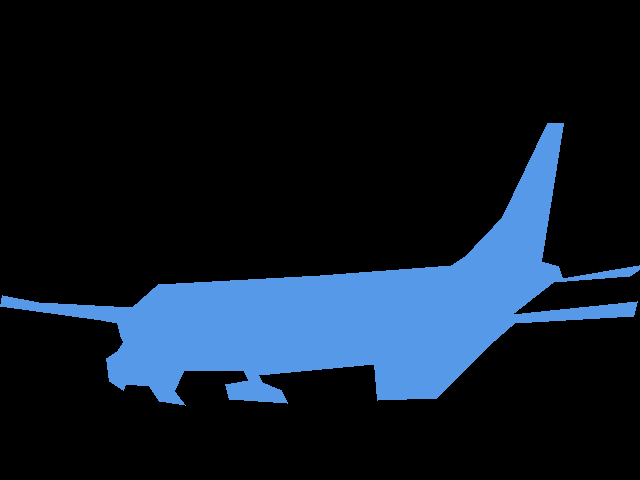Airplane: (0, 123, 640, 405)
